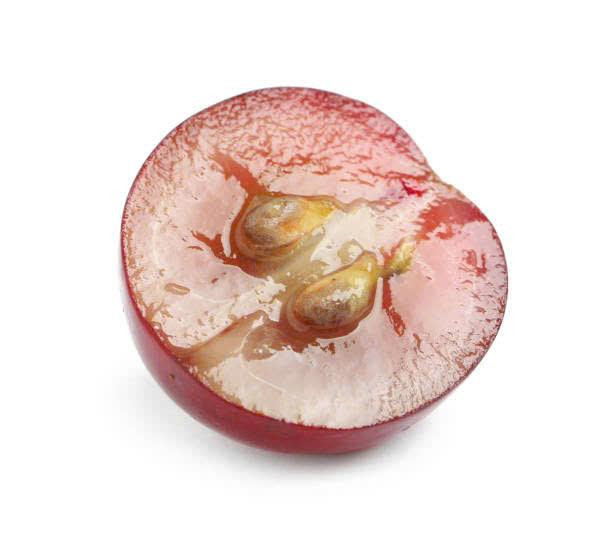grape: (101, 73, 515, 465)
